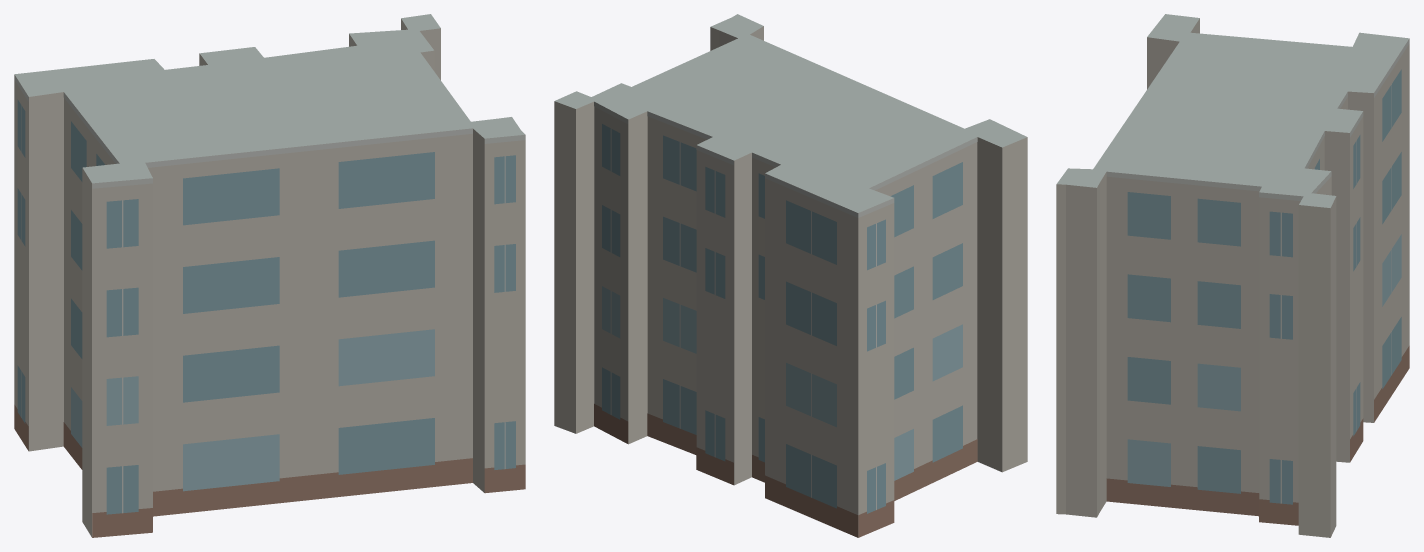
Rendered from survey-upis-32803006.glb.
The picture shows the model from 3 angles, left to right: view 1: azimuth 30°, elevation 25°; view 2: azimuth 150°, elevation 25°; view 3: azimuth 270°, elevation 25°; orthographic projection. The views are drawn at different scales.
Visible parts, largest first — view 1: survey-upis-32803006.tmp; view 2: survey-upis-32803006.tmp; view 3: survey-upis-32803006.tmp.
Part boxes in pixels (x1=…): survey-upis-32803006.tmp: x1=14, y1=14, x2=525, y2=537; survey-upis-32803006.tmp: x1=554, y1=14, x2=1027, y2=537; survey-upis-32803006.tmp: x1=1056, y1=14, x2=1409, y2=537.
Size of the model in its own units: 20.33 by 16.1 by 15.64.
